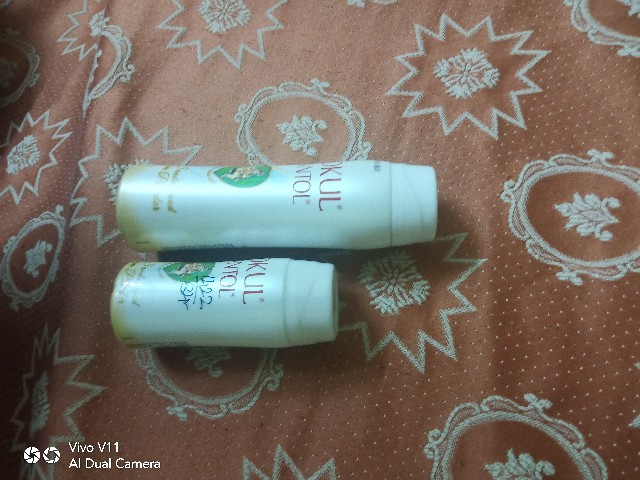gokulsantol big: (96, 153, 473, 259)
gokulsantol small: (92, 249, 350, 359)
